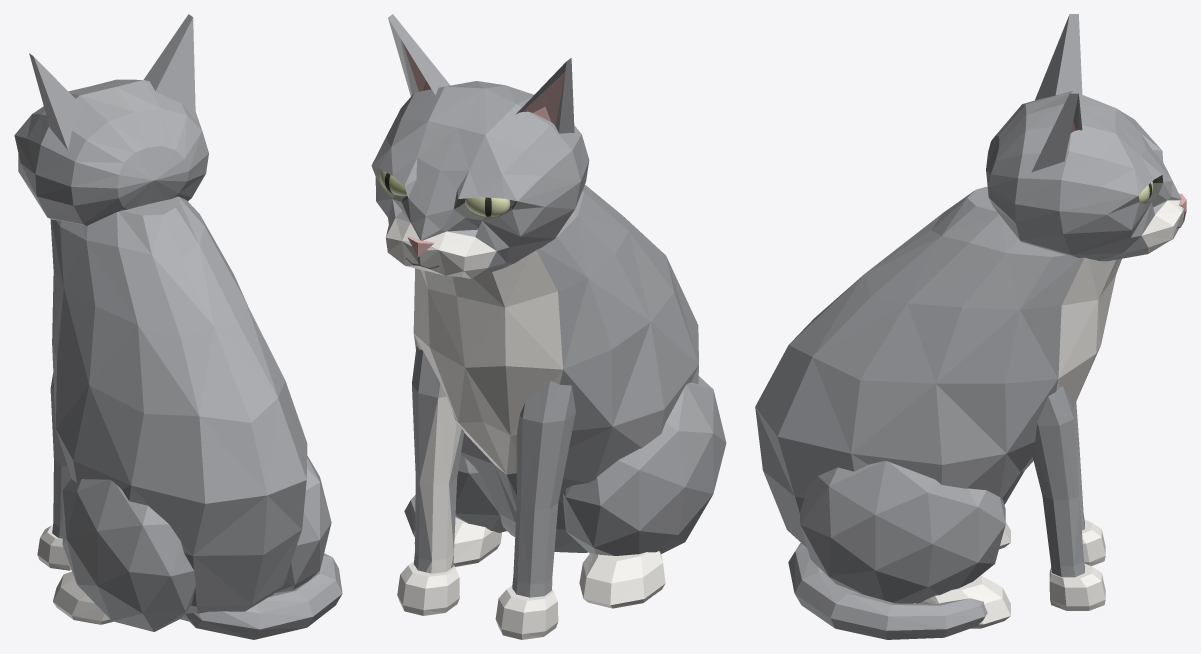
The model's file is cat_fit_r3.glb.
The picture shows the model from 3 angles, left to right: view 1: azimuth 30°, elevation 25°; view 2: azimuth 150°, elevation 25°; view 3: azimuth 270°, elevation 25°; orthographic projection. The views are drawn at different scales.
Visible parts, largest first — view 1: Rounded_Torso_MASTER, Sculpted_Head_MASTER, Haunch_Right_MASTER, Curled_tail_MASTER, Haunch_Left_MASTER, Thick_Ear_Left_MASTER, Thick_Ear_Right_MASTER, Hind_paw_Right_MASTER, Foreleg_Right_MASTER, Front_paw_Right_MASTER; view 2: Rounded_Torso_MASTER, Sculpted_Head_MASTER, Haunch_Right_MASTER, Foreleg_Right_MASTER, Foreleg_Left_MASTER, Hind_paw_Right_MASTER, Front_paw_Right_MASTER, Front_paw_Left_MASTER, Haunch_Left_MASTER, Thick_Ear_Right_MASTER, Thick_Ear_Left_MASTER, Hind_paw_Left_MASTER (+1 smaller); view 3: Rounded_Torso_MASTER, Sculpted_Head_MASTER, Haunch_Left_MASTER, Curled_tail_MASTER, Foreleg_Left_MASTER, Thick_Ear_Right_MASTER, Front_paw_Left_MASTER, Hind_paw_Left_MASTER, Thick_Ear_Left_MASTER, Front_paw_Right_MASTER.
Boxes of the visible parts, bbox=[...] form: Rounded_Torso_MASTER: bbox=[50, 196, 307, 621]; Sculpted_Head_MASTER: bbox=[14, 79, 208, 225]; Haunch_Right_MASTER: bbox=[62, 479, 195, 631]; Curled_tail_MASTER: bbox=[184, 553, 342, 639]; Haunch_Left_MASTER: bbox=[275, 455, 331, 592]; Thick_Ear_Left_MASTER: bbox=[143, 14, 195, 119]; Thick_Ear_Right_MASTER: bbox=[29, 53, 84, 150]; Hind_paw_Right_MASTER: bbox=[53, 571, 113, 624]; Foreleg_Right_MASTER: bbox=[50, 373, 71, 538]; Front_paw_Right_MASTER: bbox=[37, 525, 71, 570]; Rounded_Torso_MASTER: bbox=[413, 185, 698, 552]; Sculpted_Head_MASTER: bbox=[371, 81, 589, 278]; Haunch_Right_MASTER: bbox=[563, 376, 726, 555]; Foreleg_Right_MASTER: bbox=[512, 381, 575, 597]; Foreleg_Left_MASTER: bbox=[412, 346, 464, 573]; Hind_paw_Right_MASTER: bbox=[579, 551, 665, 608]; Front_paw_Right_MASTER: bbox=[495, 585, 558, 639]; Front_paw_Left_MASTER: bbox=[397, 561, 459, 615]; Haunch_Left_MASTER: bbox=[455, 455, 506, 532]; Thick_Ear_Right_MASTER: bbox=[515, 58, 574, 133]; Thick_Ear_Left_MASTER: bbox=[388, 14, 450, 96]; Hind_paw_Left_MASTER: bbox=[414, 517, 501, 566]; Rounded_Torso_MASTER: bbox=[755, 186, 1121, 547]; Sculpted_Head_MASTER: bbox=[986, 91, 1184, 261]; Haunch_Left_MASTER: bbox=[800, 461, 1005, 603]; Curled_tail_MASTER: bbox=[788, 542, 987, 639]; Foreleg_Left_MASTER: bbox=[1030, 386, 1084, 577]; Thick_Ear_Right_MASTER: bbox=[1035, 14, 1082, 100]; Front_paw_Left_MASTER: bbox=[1049, 563, 1105, 610]; Hind_paw_Left_MASTER: bbox=[915, 575, 1010, 628]; Thick_Ear_Left_MASTER: bbox=[1031, 93, 1082, 172]; Front_paw_Right_MASTER: bbox=[1082, 520, 1105, 565].
Bounding box in the file's own units: 0.0762 × 0.15 × 0.1117.
